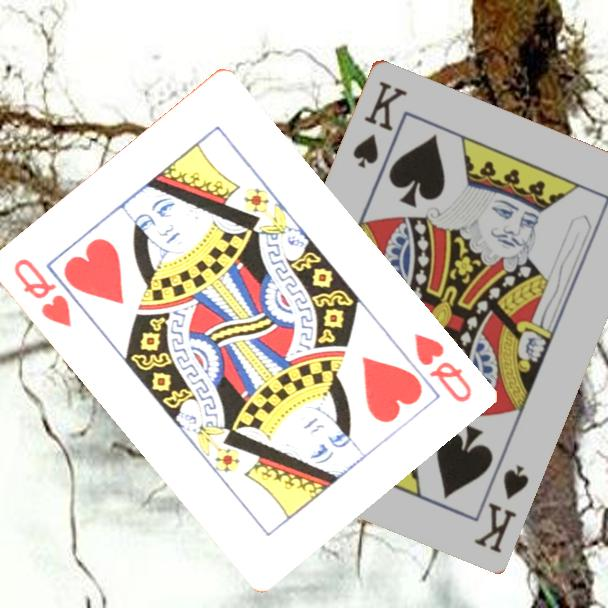h12: (409, 329, 474, 406), (9, 254, 74, 330)
s13: (470, 460, 532, 555), (349, 76, 410, 171)
